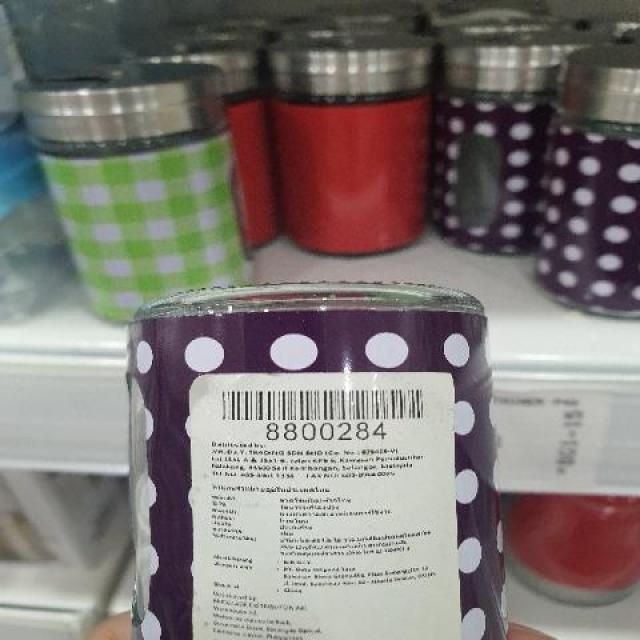Barcode: (208, 381, 439, 444)
